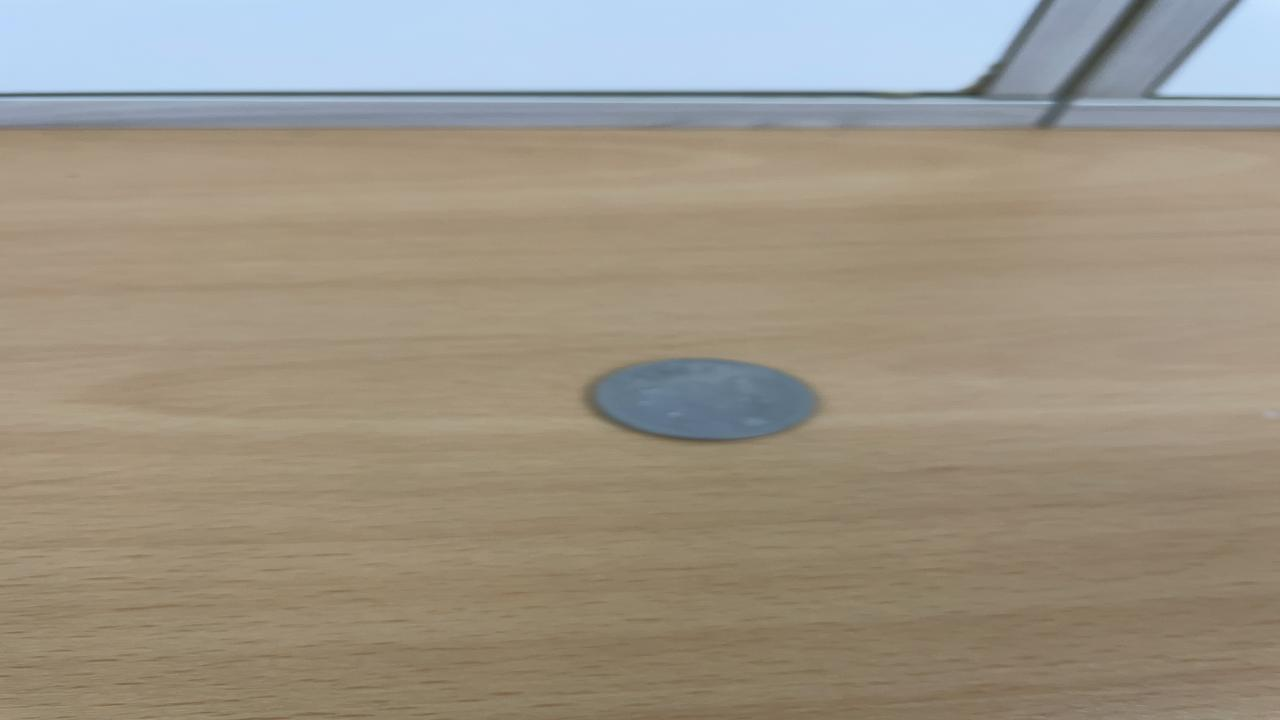coin: (586, 356, 826, 442)
